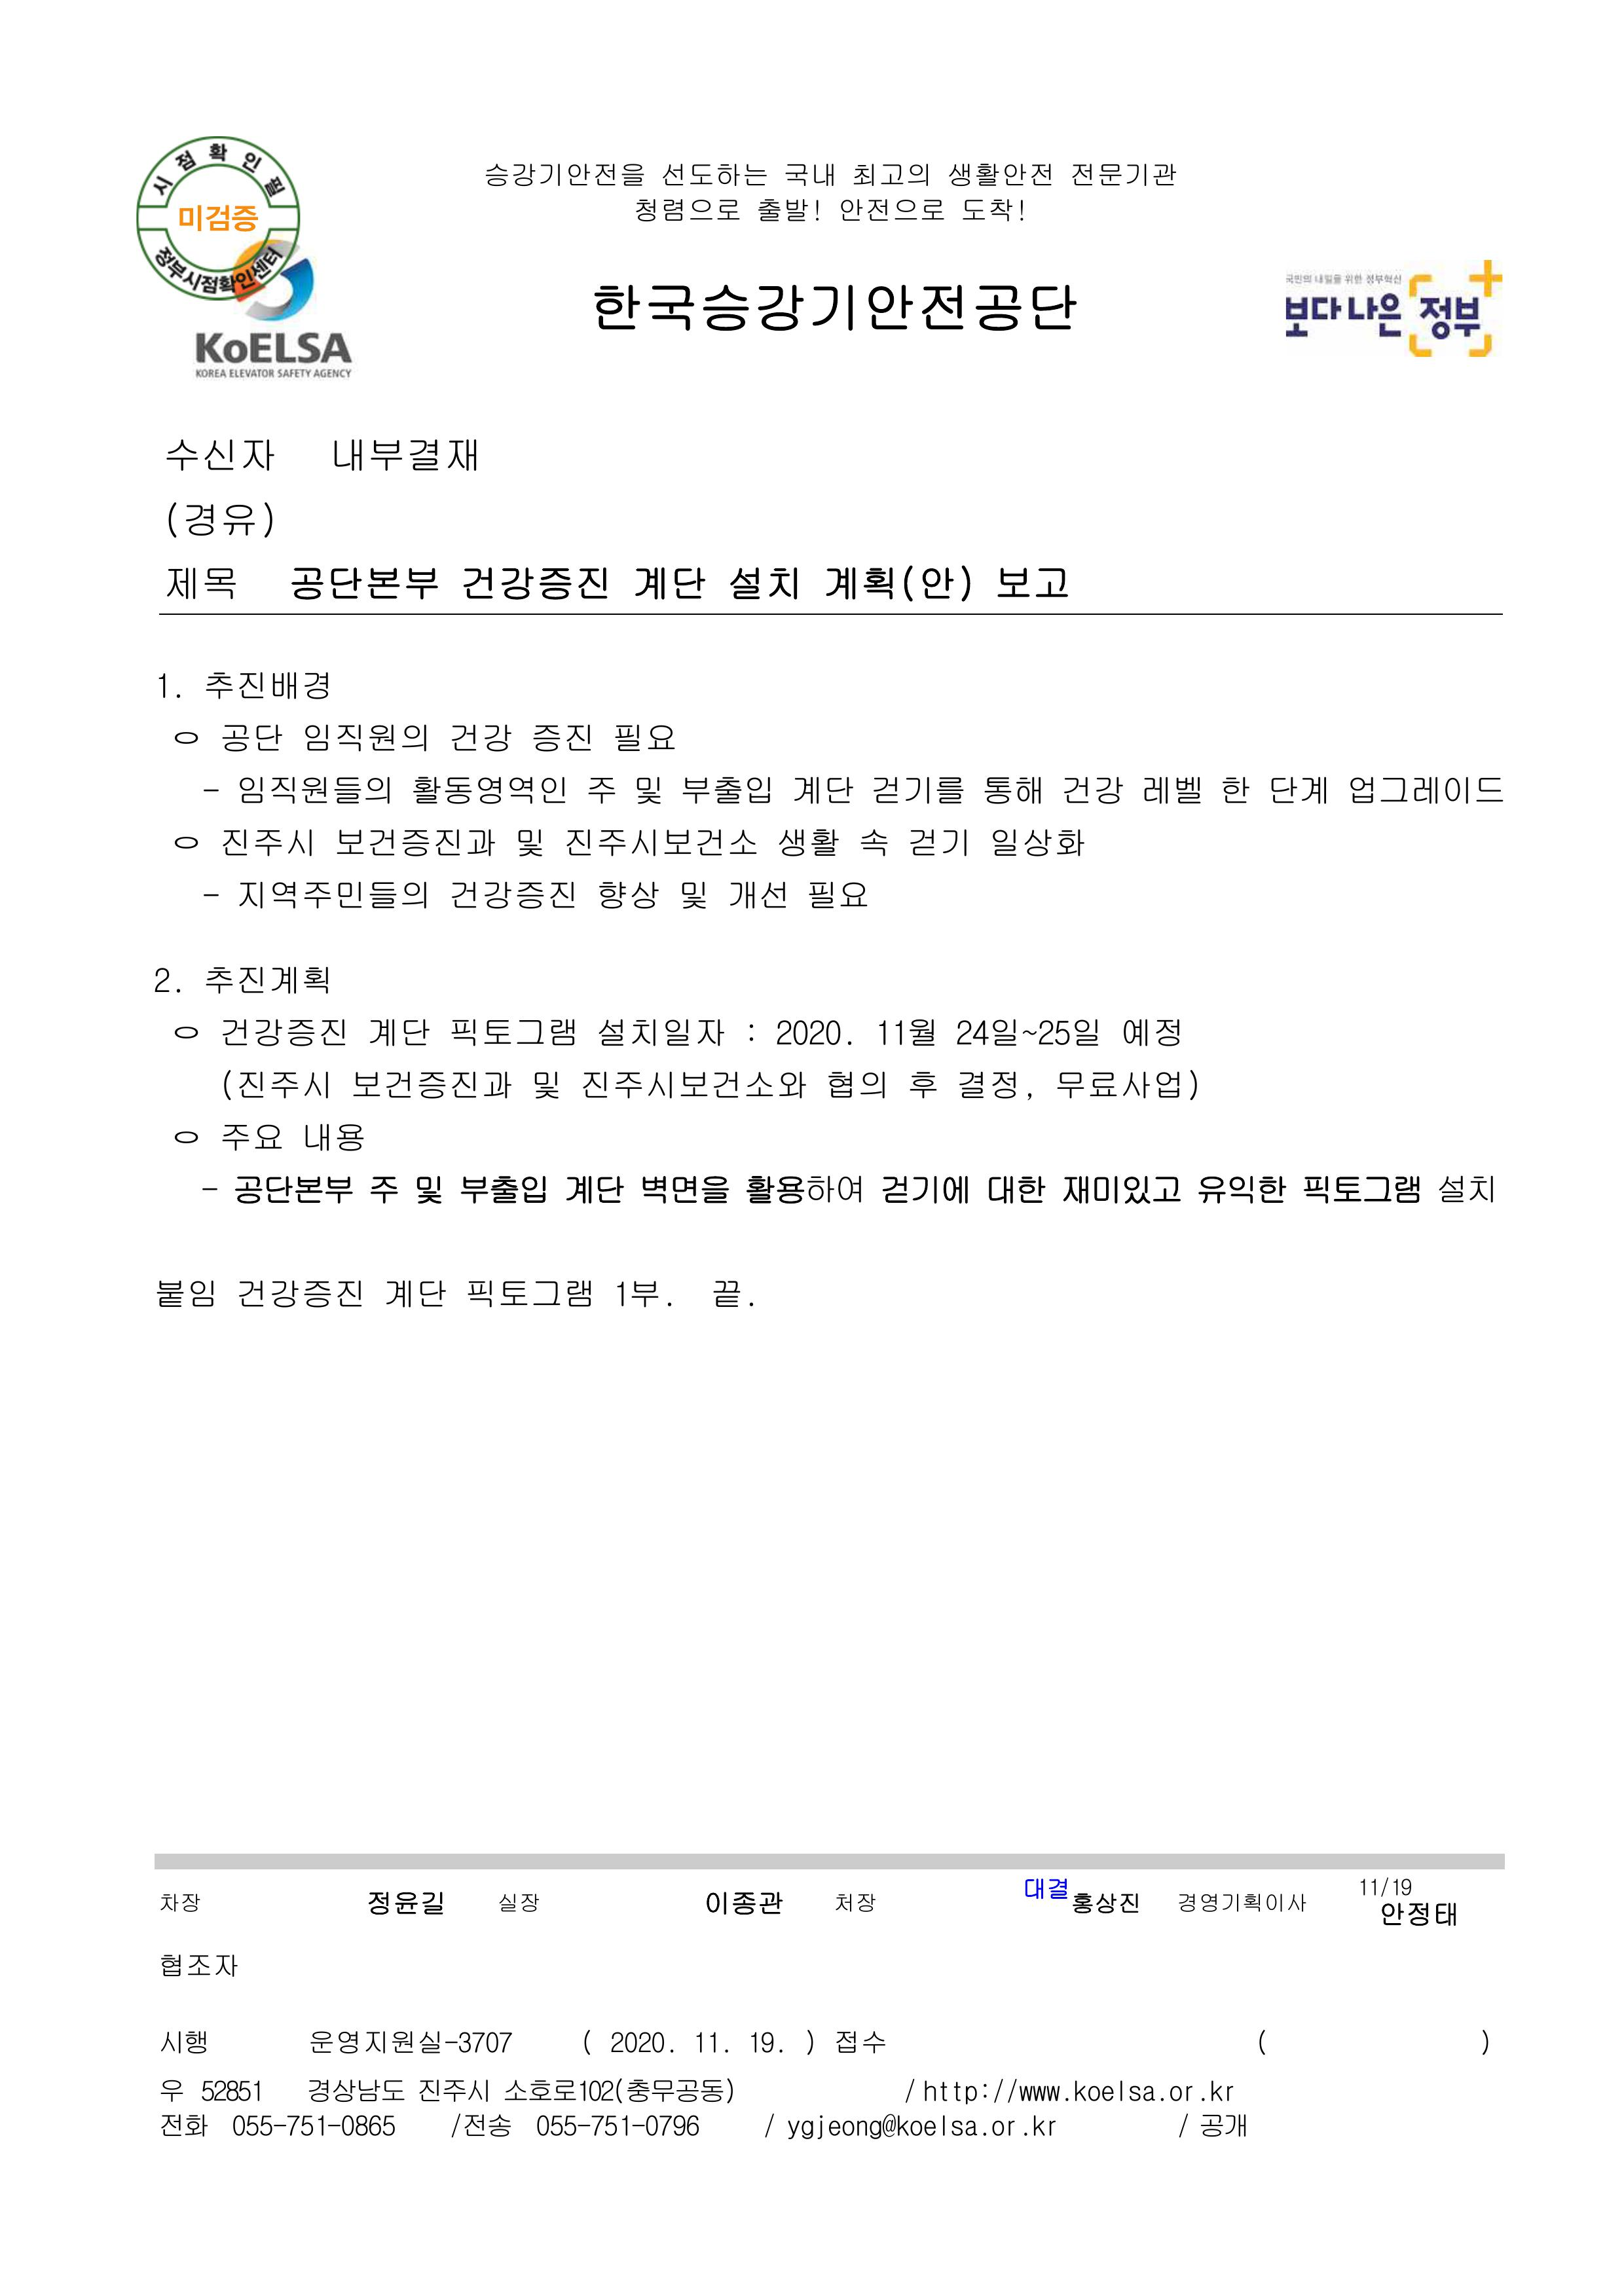t: (588, 276, 1079, 337), (229, 1169, 445, 1208), (502, 2072, 735, 2108), (577, 1065, 807, 1101), (232, 875, 430, 914), (559, 824, 760, 860), (821, 562, 979, 606), (287, 562, 441, 606), (459, 562, 613, 606), (1283, 290, 1405, 344), (351, 1065, 516, 1104), (409, 771, 570, 810), (193, 326, 351, 365), (333, 824, 498, 860), (329, 433, 480, 473), (1053, 1066, 1201, 1105), (236, 771, 394, 807), (1344, 771, 1502, 807), (480, 157, 649, 190), (161, 498, 280, 545), (445, 720, 595, 756), (950, 1014, 1101, 1050), (229, 2108, 397, 2140), (1020, 1867, 1147, 1909), (445, 875, 577, 914), (534, 2112, 703, 2140), (232, 1276, 365, 1312), (462, 1276, 595, 1312), (742, 1169, 864, 1208), (595, 1014, 728, 1050), (200, 667, 329, 703), (301, 720, 430, 756), (200, 961, 329, 997), (219, 1014, 348, 1050), (448, 1014, 577, 1050), (1298, 1169, 1424, 1205), (1058, 1172, 1183, 1208), (219, 1065, 333, 1104), (308, 2026, 445, 2058), (164, 433, 276, 473), (595, 878, 710, 914), (868, 771, 968, 810), (1194, 1169, 1287, 1208), (943, 157, 1054, 190), (1065, 157, 1176, 190), (631, 193, 742, 226), (656, 157, 767, 190), (836, 193, 946, 226), (986, 824, 1086, 860), (826, 2116, 938, 2148), (1412, 294, 1485, 344), (631, 562, 713, 606), (638, 1167, 729, 1206), (678, 771, 774, 807), (219, 824, 315, 860), (724, 562, 803, 606), (993, 562, 1072, 606), (878, 1172, 972, 1208), (455, 1172, 548, 1208), (1176, 1890, 1308, 1915), (304, 2072, 405, 2104), (175, 200, 261, 236), (581, 771, 667, 807), (771, 1014, 853, 1050), (164, 562, 236, 602), (953, 1065, 1025, 1104), (846, 157, 932, 190), (362, 1886, 448, 1918), (703, 1886, 785, 1918), (904, 2080, 993, 2108), (771, 824, 842, 860), (982, 1169, 1047, 1208), (979, 771, 1043, 810), (610, 720, 678, 756), (1058, 771, 1126, 807), (1137, 771, 1205, 807), (904, 824, 972, 860), (365, 1014, 434, 1050), (219, 1118, 287, 1154), (297, 1118, 365, 1154), (157, 1951, 240, 1979), (788, 771, 853, 807), (803, 878, 868, 914), (871, 1014, 936, 1050), (563, 1172, 627, 1208), (154, 1276, 219, 1312), (383, 1276, 448, 1312), (219, 720, 283, 756), (1266, 771, 1330, 807), (416, 2076, 494, 2104), (720, 878, 788, 911), (1118, 1014, 1179, 1050), (1434, 1169, 1495, 1205), (824, 1069, 889, 1101), (606, 2026, 671, 2058), (448, 2108, 513, 2140), (610, 1276, 667, 1312), (452, 2026, 513, 2058), (781, 157, 839, 190), (753, 193, 810, 226), (965, 197, 1029, 226), (832, 2026, 885, 2058), (200, 2080, 265, 2104), (157, 2112, 212, 2140), (1377, 1900, 1431, 1929), (1194, 2112, 1247, 2140), (1004, 2080, 1065, 2104), (781, 2112, 828, 2144), (161, 2029, 212, 2058), (710, 1276, 749, 1312), (1215, 771, 1251, 807), (692, 2029, 735, 2058), (1356, 1879, 1412, 1900), (513, 824, 545, 860), (853, 824, 889, 856), (527, 1069, 559, 1104), (1072, 2080, 1115, 2104), (832, 1893, 878, 1915), (161, 1893, 204, 1915), (907, 1069, 936, 1101), (498, 1893, 541, 1915), (749, 2029, 785, 2055), (1431, 1897, 1459, 1929), (157, 674, 183, 703), (1208, 2080, 1237, 2104), (1126, 2083, 1158, 2104), (154, 968, 175, 997), (1169, 2083, 1198, 2104), (950, 2119, 979, 2140), (989, 2119, 1018, 2140), (1029, 2119, 1058, 2140), (161, 2080, 186, 2101)
